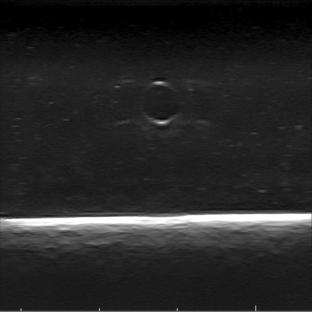vessel: (136, 79, 185, 126)
